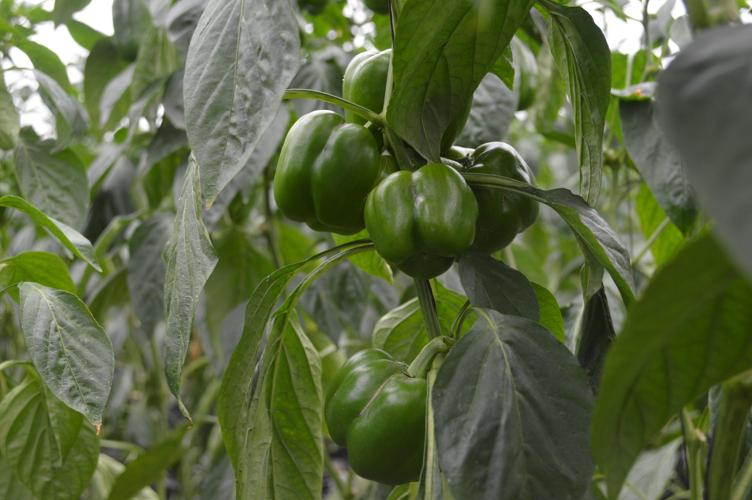BellPepper: (310, 352, 446, 489), (338, 40, 470, 140), (266, 119, 380, 229), (361, 173, 487, 267), (458, 145, 542, 249)
